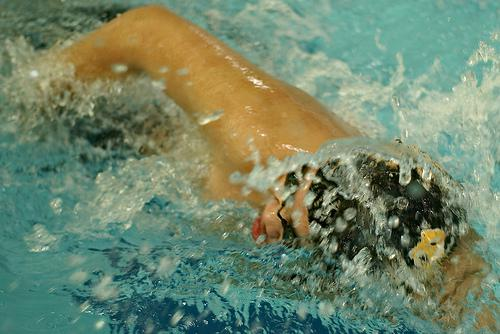swimmer: (38, 4, 499, 333)
